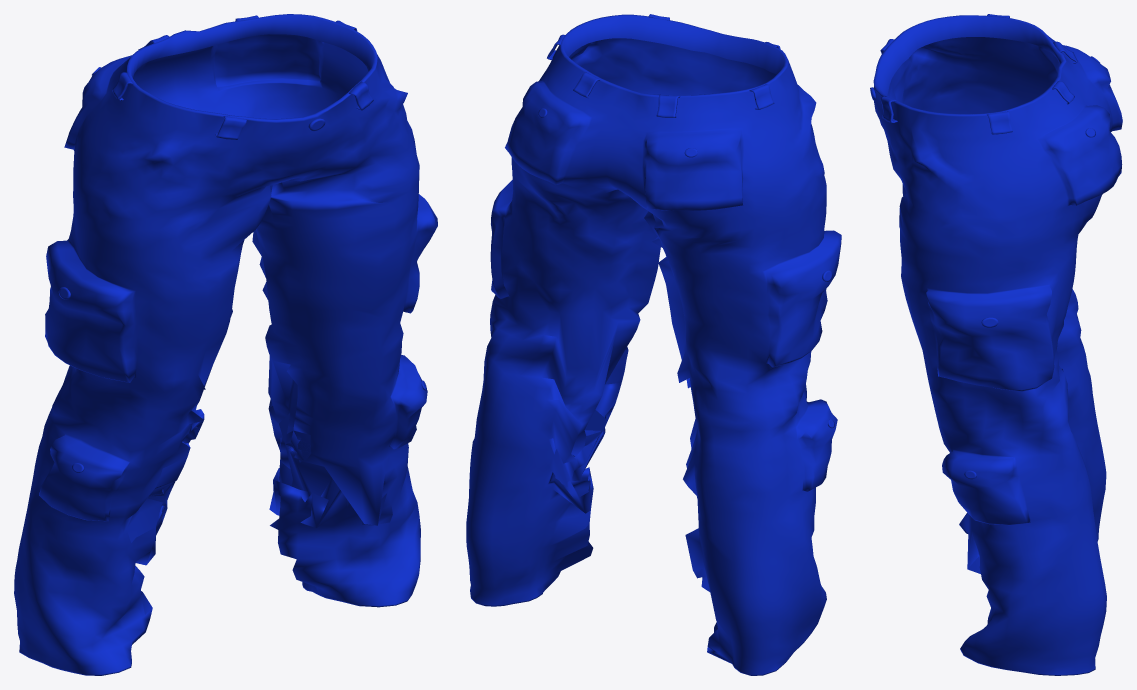
Rendered from Pants.obj.
3 renders of one model, left to right at view 1: azimuth 30°, elevation 25°; view 2: azimuth 150°, elevation 25°; view 3: azimuth 270°, elevation 25°, orthographic. The views are drawn at different scales.
Parts seen in each view (by area): view 1: Pants; view 2: Pants; view 3: Pants.
Boxes of the visible parts, x1=… form: Pants: x1=14, y1=14, x2=437, y2=675; Pants: x1=466, y1=14, x2=841, y2=675; Pants: x1=870, y1=14, x2=1122, y2=675.
Bounding box in the file's own units: 88.4 × 134 × 56.55.
